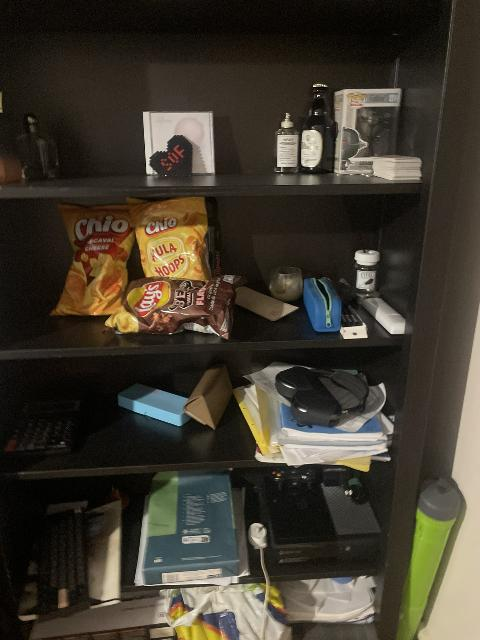Chio Cascaval 125g: (48, 203, 138, 318)
Chio Hula Hoops Cheese 70g: (128, 196, 212, 284)
Lays Beef Grilled Ribs 125g: (105, 273, 244, 337)
